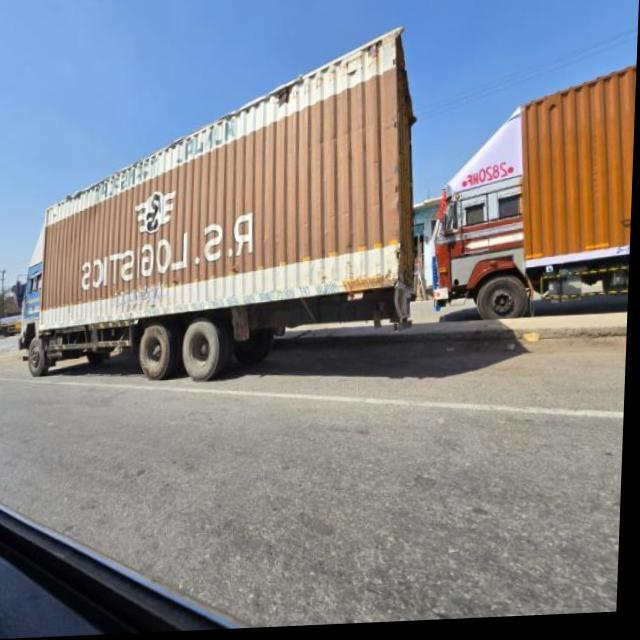covered: (42, 54, 428, 381), (439, 39, 638, 326)
